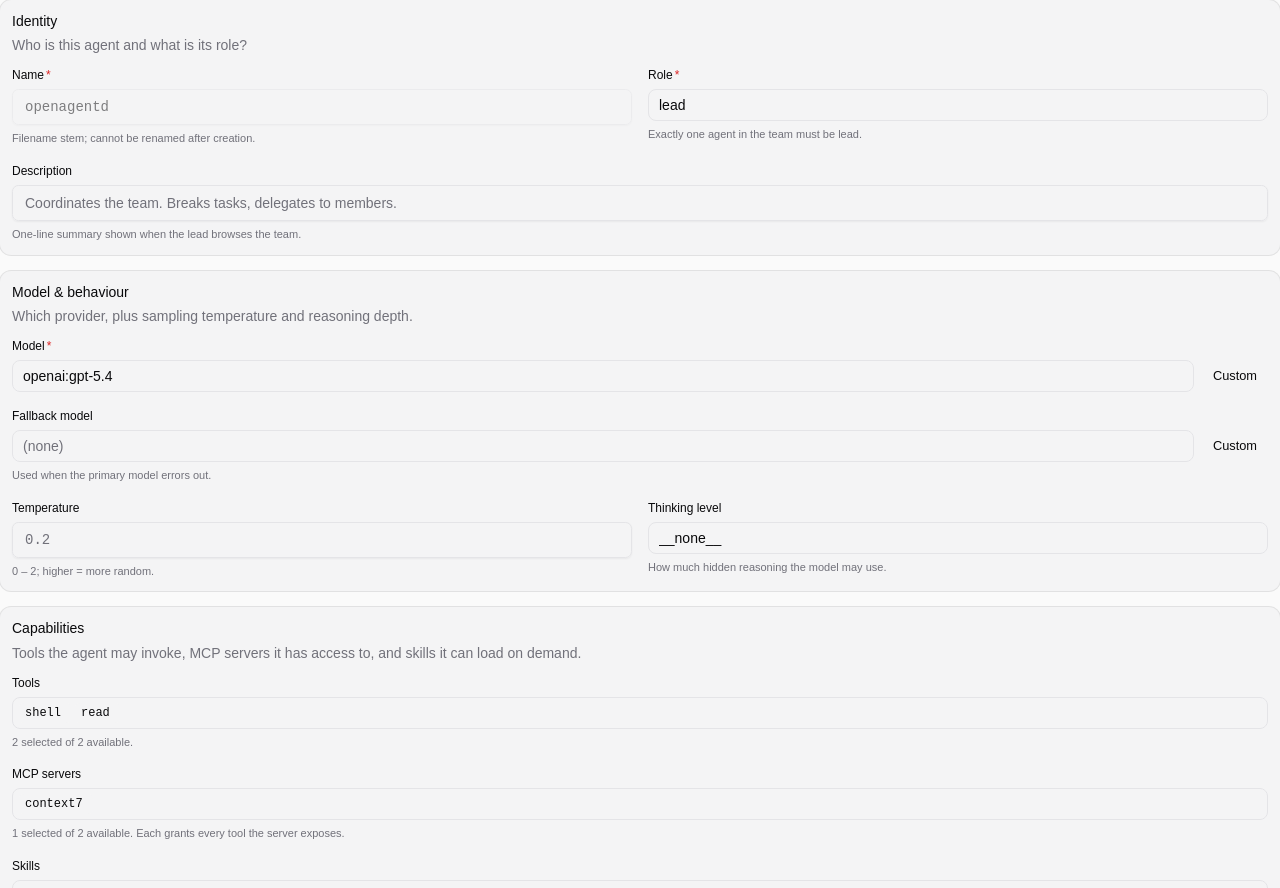
Test case: AgentForm — Capabilities card › renders the MCP servers picker with available servers
Click the dropdown labelled "context7". click: click(640, 804)
box: [12,788,1268,820]
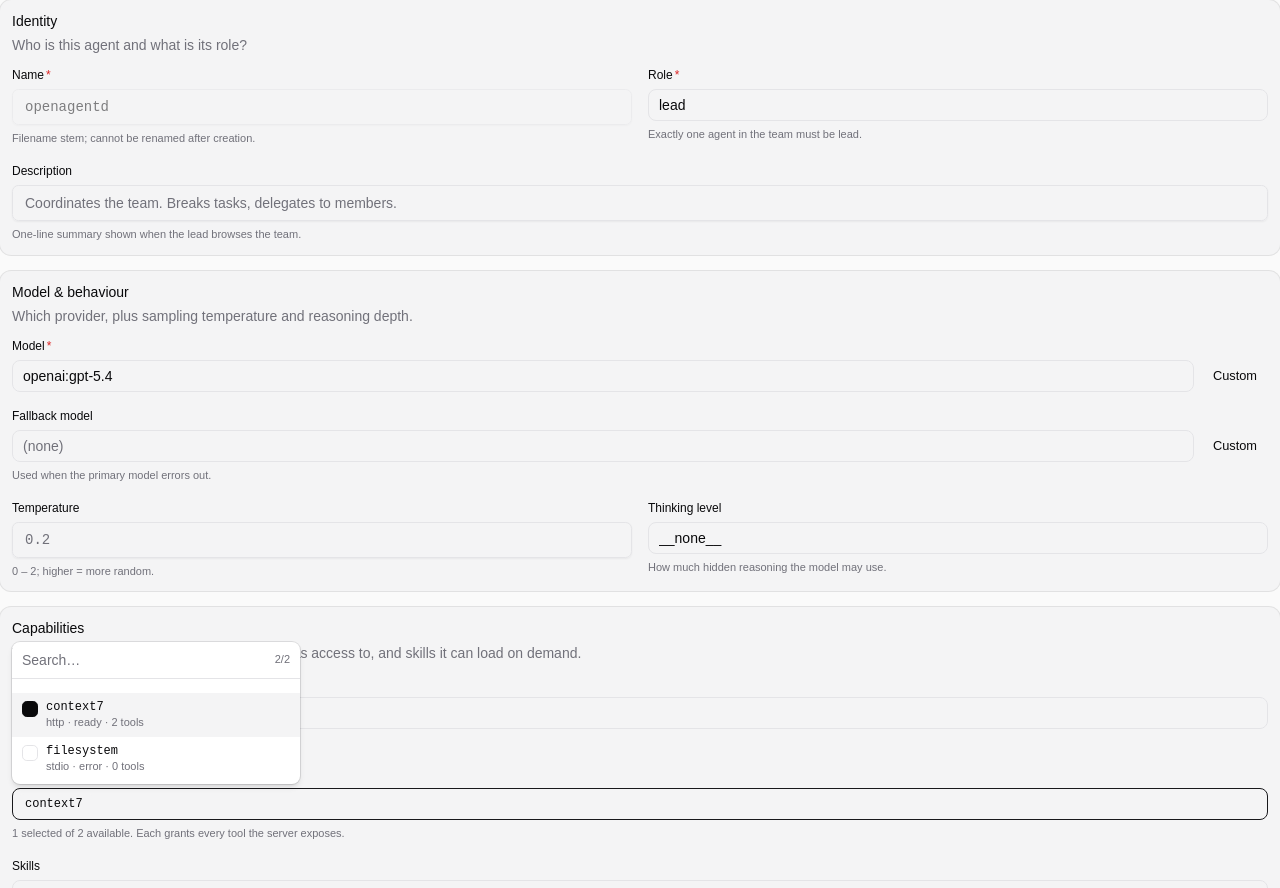
Check: the text "context7" is shown, box [46,700,104,714]
Check: the text "filesystem" is shown, box [46,744,118,758]
